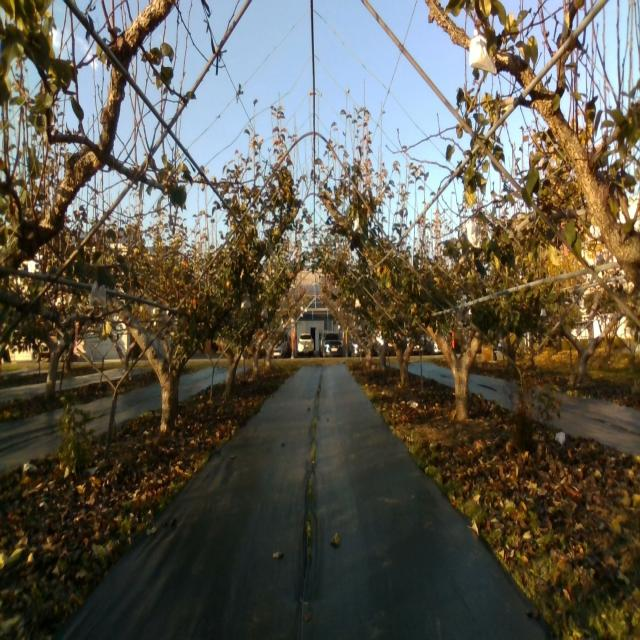pearbags: (469, 29, 497, 73), (89, 282, 107, 308), (466, 220, 481, 248)
